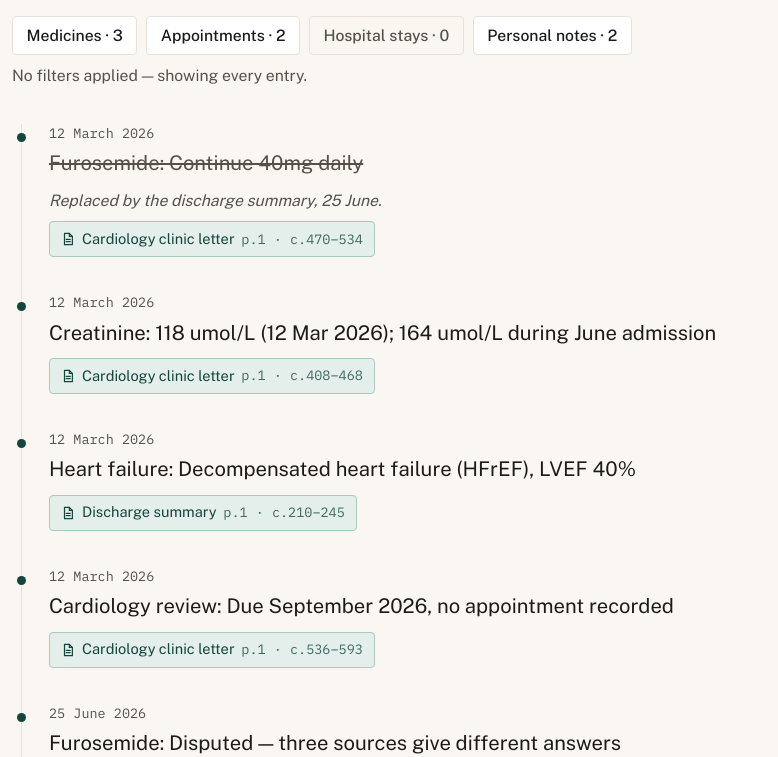
Test case: TimelineFilters › clear-all restores the full list and the default copy
This screenshot has width=778, height=757.
Click the button "Medicines · 3" at (75, 36), box [12,16,137,55]
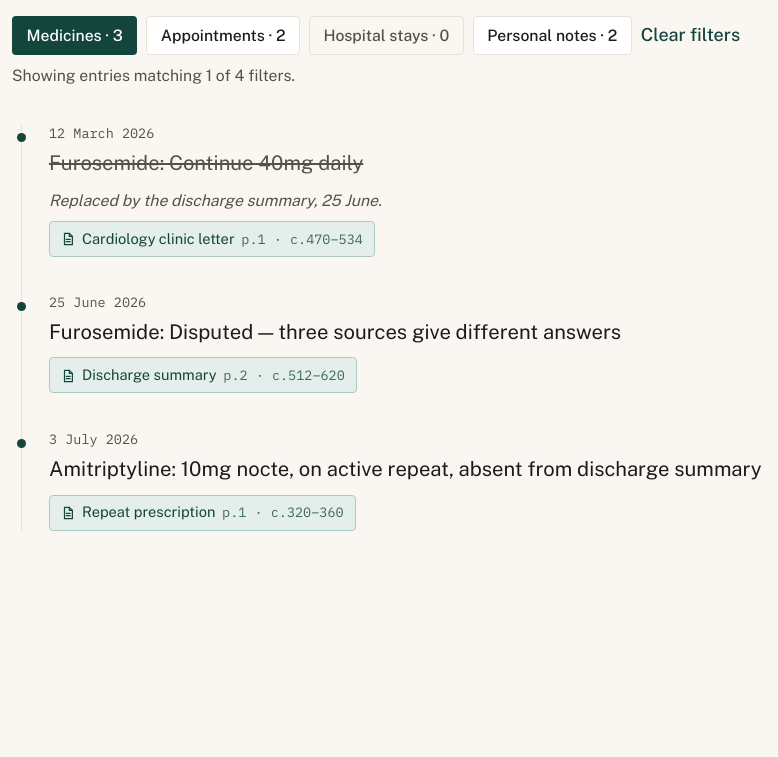
Click the button "Clear filters" at (690, 36), box [641,19,740,52]
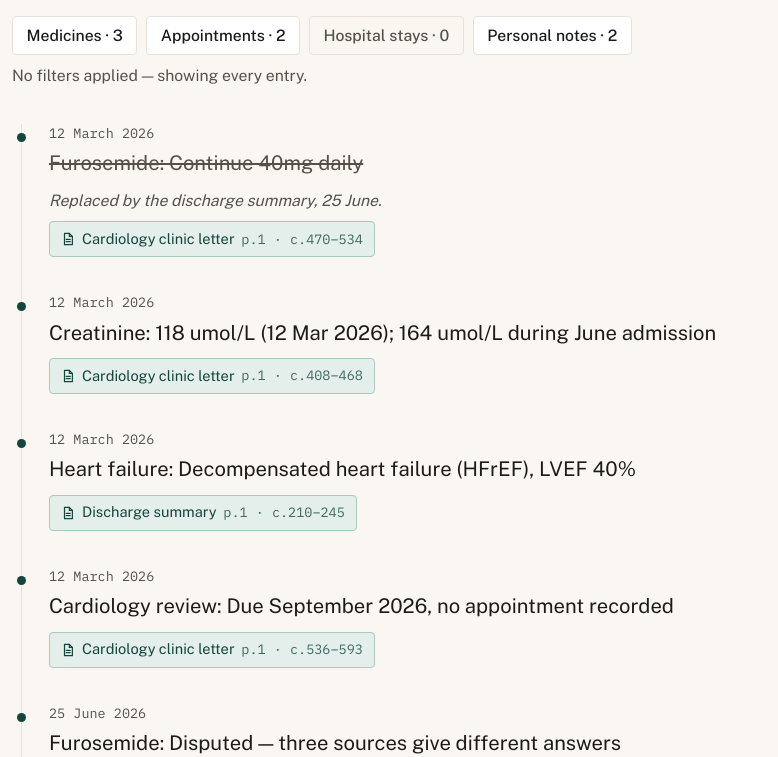
Expected: the text "No filters applied — showing every entry." is shown, [12,66,307,85]
Expected: the button "Clear filters" is gone
